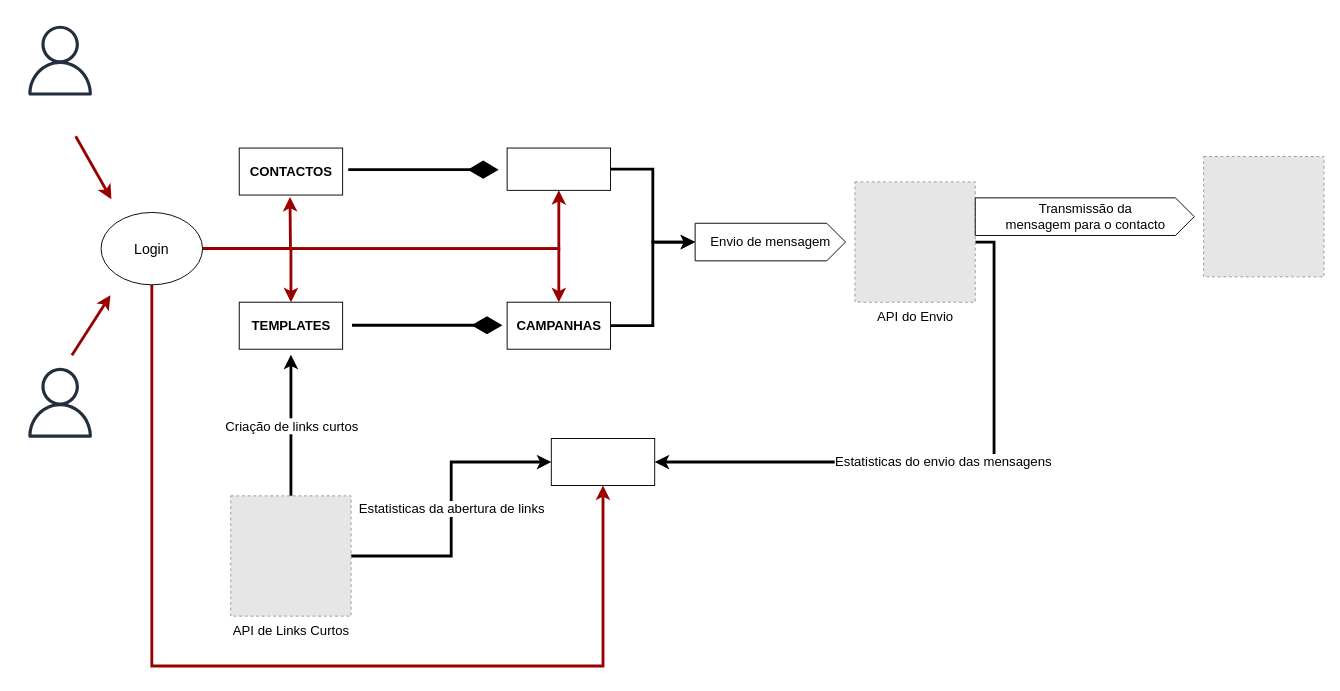
Some shapes in this 1340 by 691 pixel diagram are drawn without their labels. Grey dashed boxes stand in for pictures. Here are the shapes that lost their labels. From the top down, the box of each, then its label:
(16, 16, 104, 104): Gestor
(506, 147, 611, 190): LISTAS
(16, 358, 104, 446): Utilizador
(550, 438, 655, 486): DASHBOARDS
